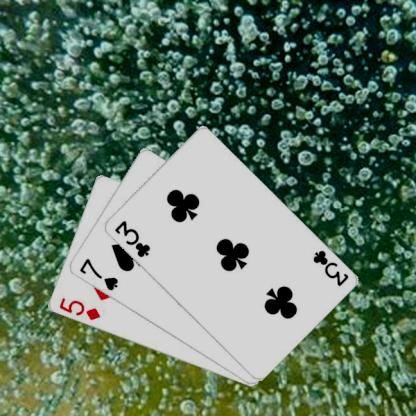3C: (309, 247, 350, 288), (111, 218, 152, 258)
5D: (56, 294, 101, 322)
7S: (76, 256, 119, 292)
